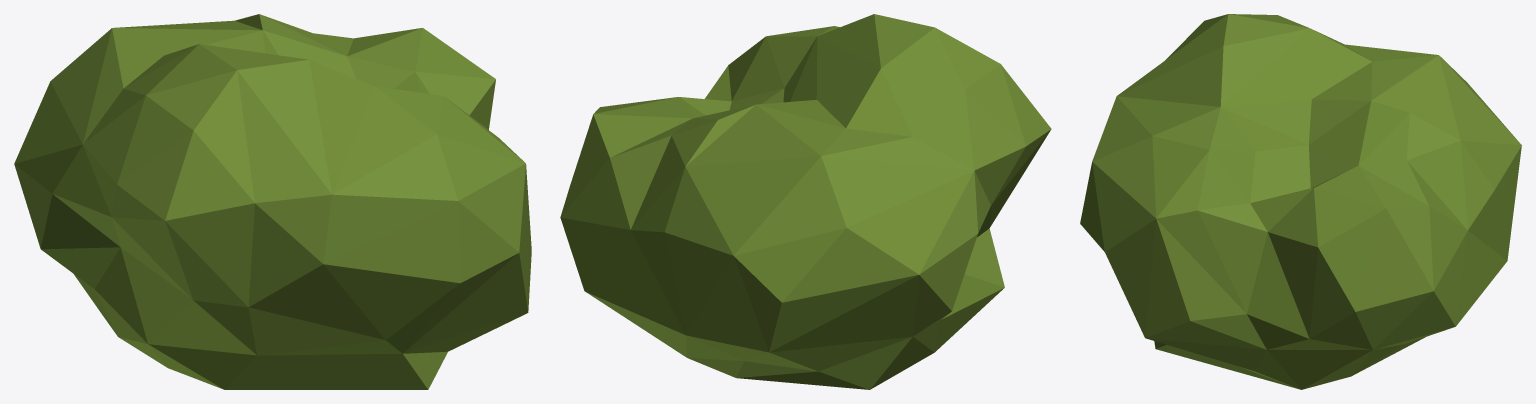
File: bush_2.glb
3 views of the same model, side by side, from view 1: azimuth 30°, elevation 25°; view 2: azimuth 150°, elevation 25°; view 3: azimuth 270°, elevation 25° (orthographic). The views are drawn at different scales.
Visible parts, largest first — view 1: Icosphere; view 2: Icosphere; view 3: Icosphere.
Part boxes in pixels (left/top/right/bottom): Icosphere: left=14, top=14, right=531, bottom=389; Icosphere: left=560, top=14, right=1051, bottom=389; Icosphere: left=1080, top=14, right=1521, bottom=389.
Bounding box in the file's own units: 1.21 × 0.8585 × 1.25.
